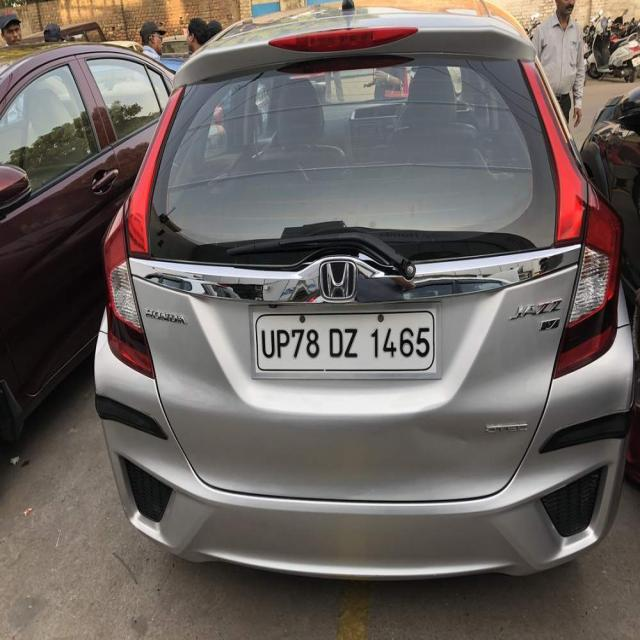Number-Plate: (257, 314, 435, 366)
